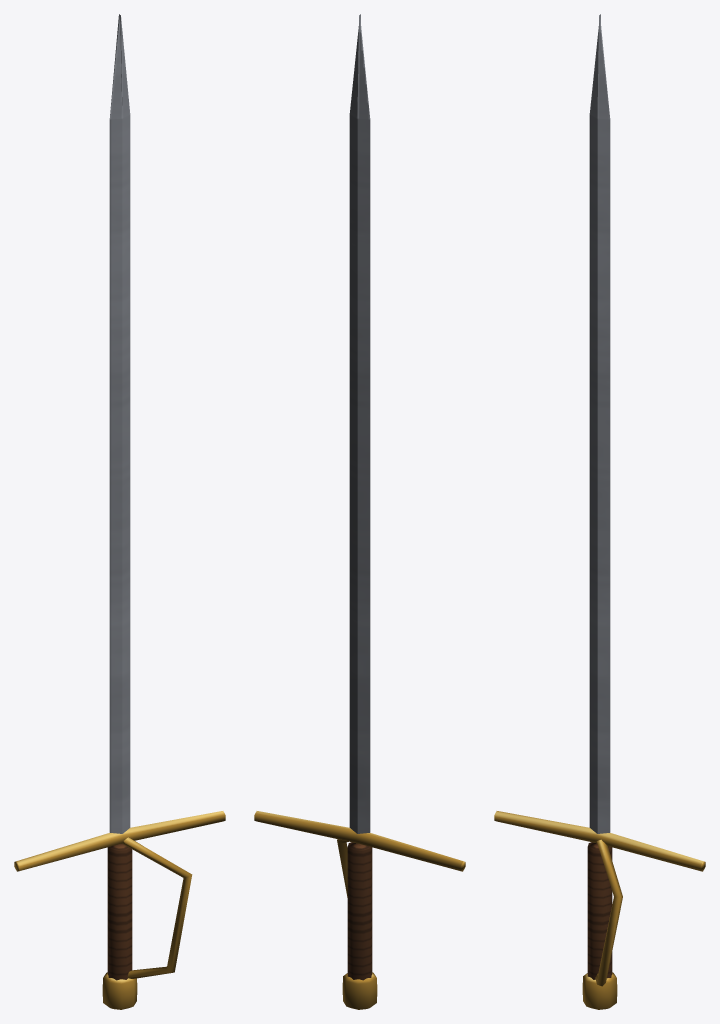
The model's file is rapiere.glb.
3 views of the same model, side by side, from view 1: azimuth 30°, elevation 25°; view 2: azimuth 150°, elevation 25°; view 3: azimuth 330°, elevation 25° (orthographic).
Parts seen in each view (by area): view 1: rapiere; view 2: rapiere; view 3: rapiere.
Part boxes in pixels (x1,y1,x2,y2): rapiere: (14,14,225,1009); rapiere: (254,14,465,1009); rapiere: (494,14,705,1009).
Bounding box in the file's own units: 0.2405 × 1.1 × 0.0707.
Materials: 1 (1 with a texture image).
